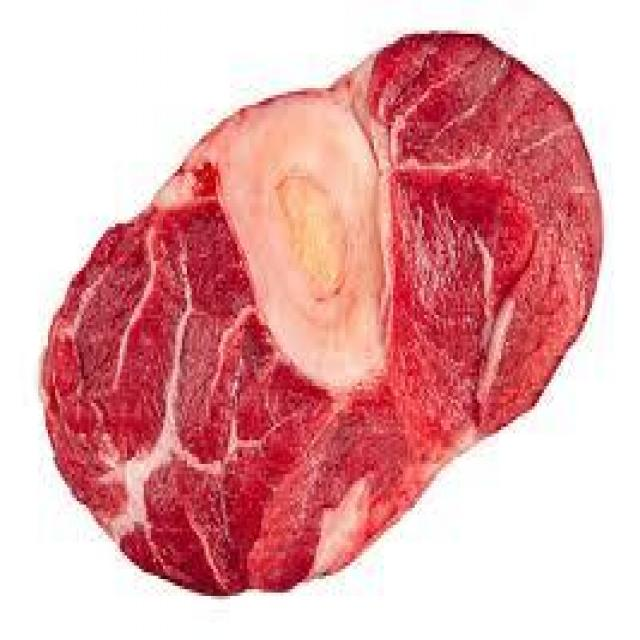Beef: (13, 0, 632, 606)
